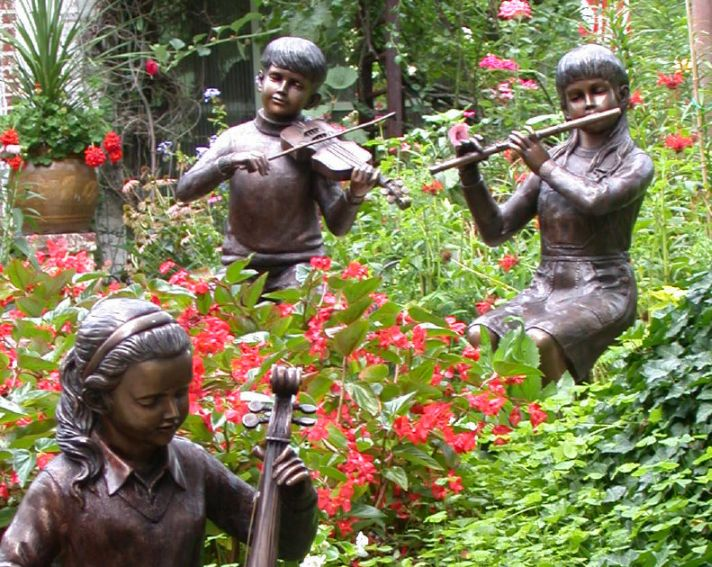person-like: (1, 293, 323, 567), (449, 41, 659, 387), (171, 31, 389, 304)
